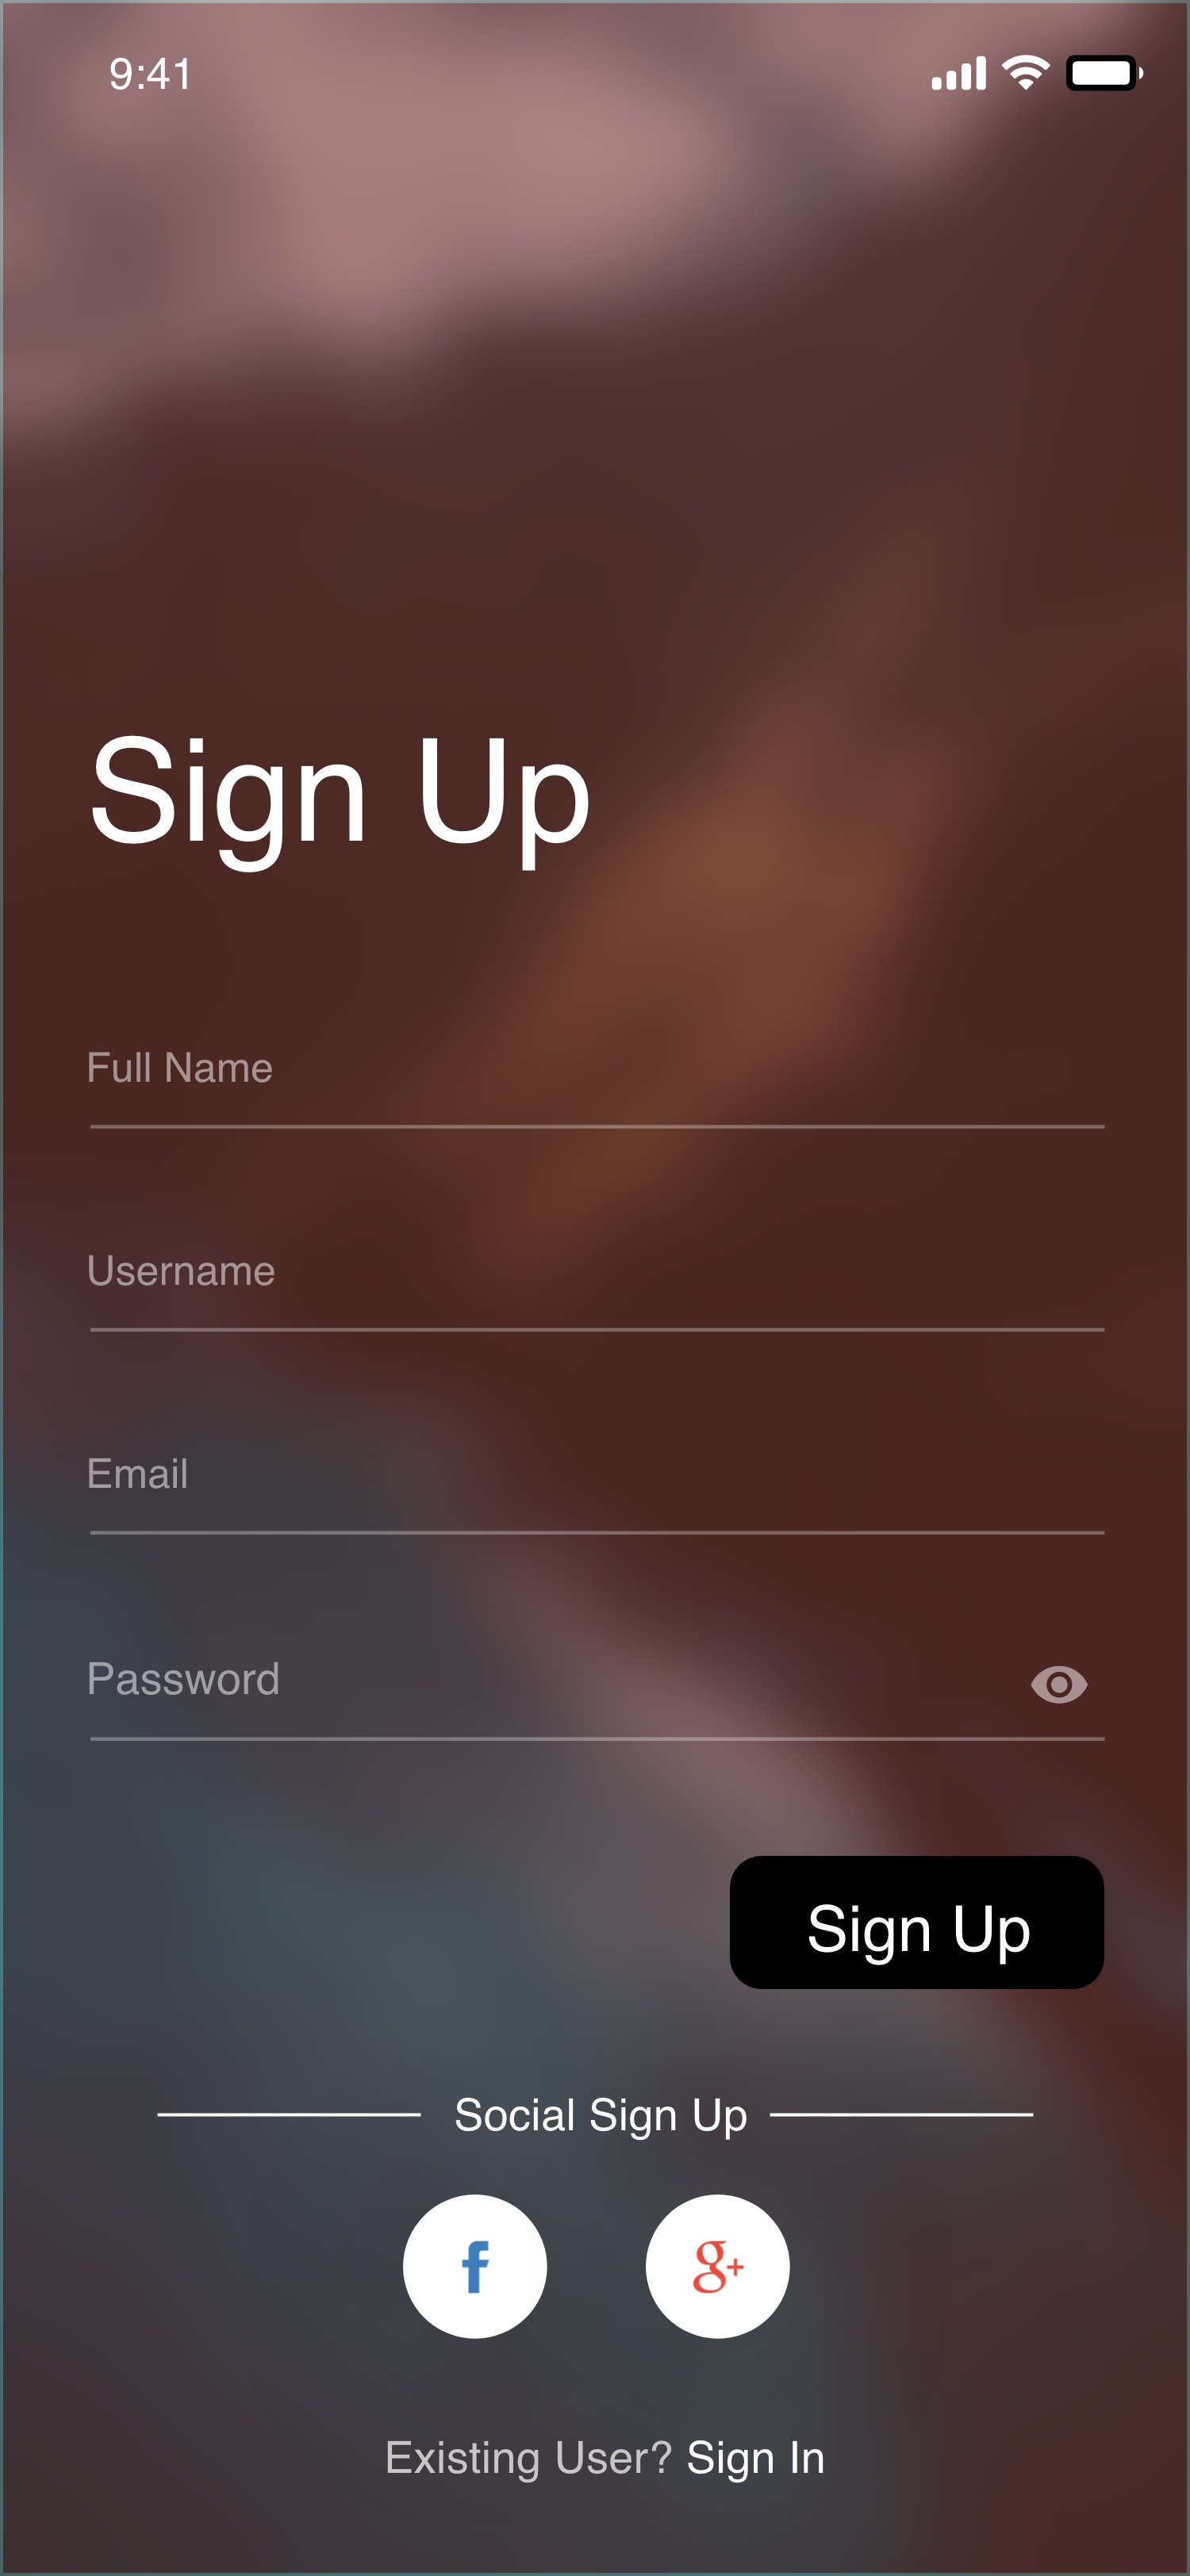EditText: (89, 1661, 1105, 1743), (89, 1050, 1105, 1130), (89, 1255, 1106, 1334), (89, 1457, 1105, 1536)
Icon: (403, 2193, 549, 2339), (646, 2193, 791, 2339), (1031, 1666, 1088, 1704)
Text: (92, 736, 590, 874), (386, 2438, 825, 2484), (455, 2096, 748, 2141), (89, 1661, 279, 1697), (89, 1050, 274, 1084), (89, 1255, 276, 1288), (89, 1457, 189, 1490)
TextButton: (730, 1855, 1105, 1990)
UpperTaskBar: (110, 54, 1146, 92)
